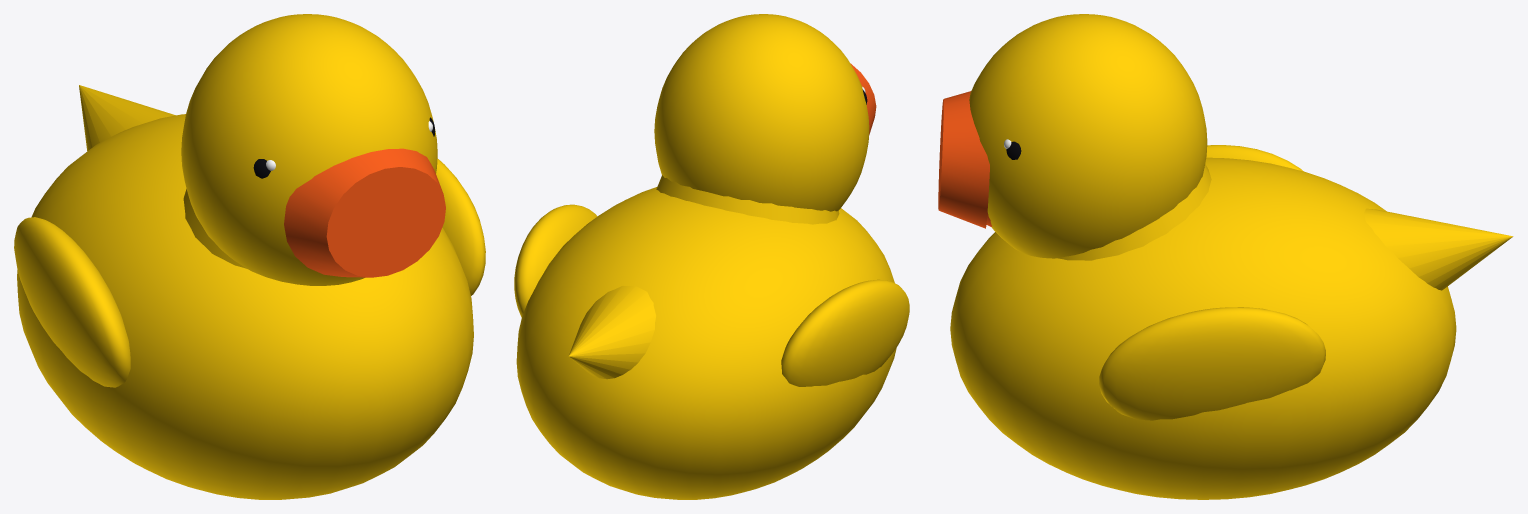
File: rubber_duck.glb
The picture shows the model from 3 angles, left to right: view 1: azimuth 30°, elevation 25°; view 2: azimuth 150°, elevation 25°; view 3: azimuth 270°, elevation 25°; orthographic projection. The views are drawn at different scales.
Parts seen in each view (by area): view 1: DuckBody, RubberDuck; view 2: DuckBody, RubberDuck; view 3: DuckBody, RubberDuck.
Part boxes in pixels (left/top/right/bottom): DuckBody: left=17, top=114, right=473, bottom=499; RubberDuck: left=14, top=14, right=485, bottom=387; DuckBody: left=516, top=187, right=896, bottom=499; RubberDuck: left=514, top=14, right=909, bottom=386; DuckBody: left=950, top=157, right=1456, bottom=499; RubberDuck: left=938, top=14, right=1513, bottom=420.
Bounding box in the file's own units: 2.35 × 2.73 × 3.14.
